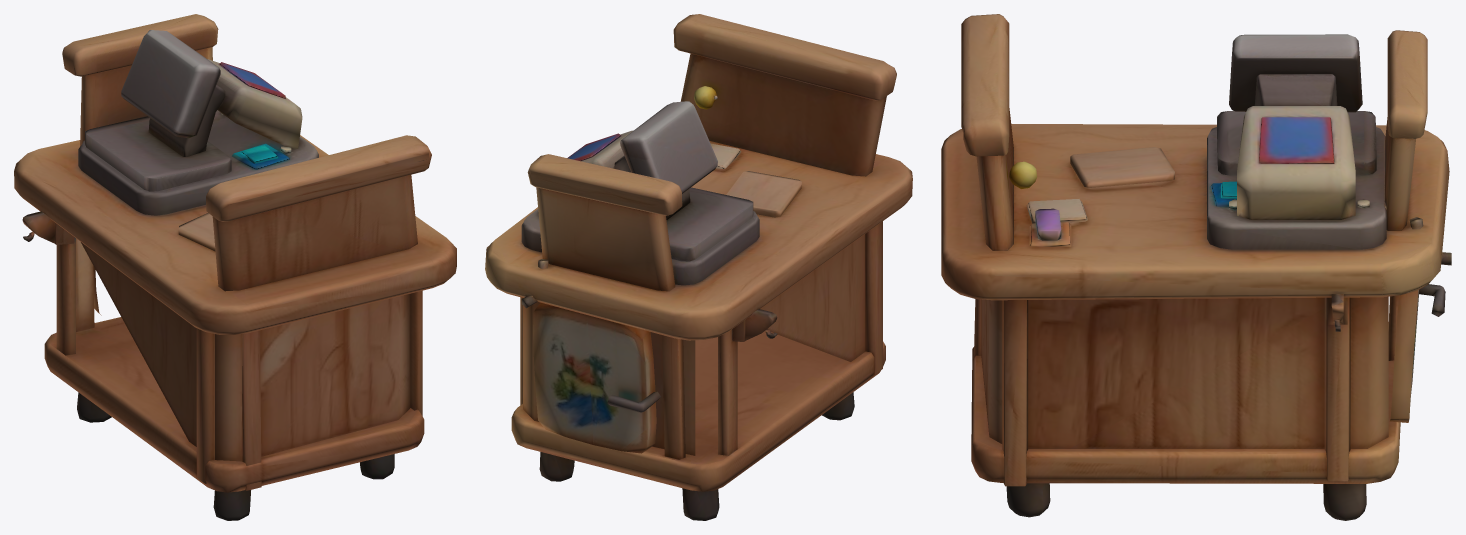
The picture shows the model from 3 angles, left to right: view 1: azimuth 30°, elevation 25°; view 2: azimuth 150°, elevation 25°; view 3: azimuth 270°, elevation 25°; orthographic projection. The views are drawn at different scales.
Visible parts, largest first — view 1: tripo_node_9db7b493-03be-4c38-a6a5-4d6d50f21e05; view 2: tripo_node_9db7b493-03be-4c38-a6a5-4d6d50f21e05; view 3: tripo_node_9db7b493-03be-4c38-a6a5-4d6d50f21e05.
Part boxes in pixels (box(x1,y1,x2,y2)): tripo_node_9db7b493-03be-4c38-a6a5-4d6d50f21e05: box(14, 14, 456, 520); tripo_node_9db7b493-03be-4c38-a6a5-4d6d50f21e05: box(485, 14, 912, 520); tripo_node_9db7b493-03be-4c38-a6a5-4d6d50f21e05: box(941, 14, 1451, 520).
Size of the model in its own units: 0.7754 by 0.9355 by 0.998.
1 material, 1 textured.
